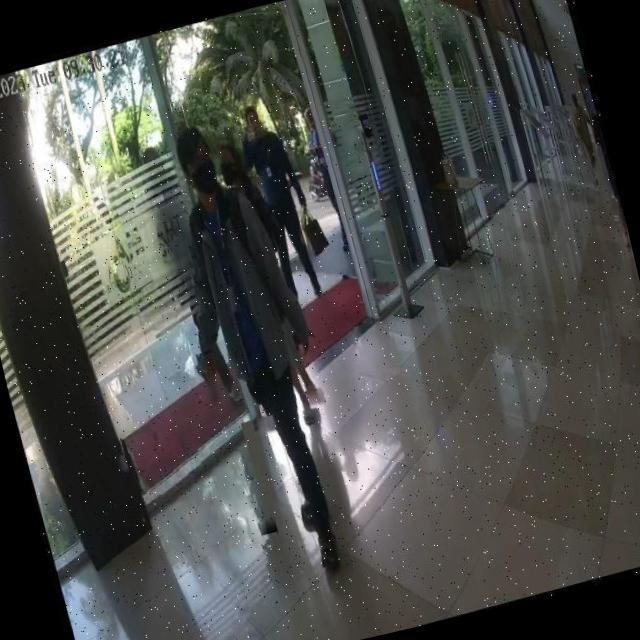person: (158, 111, 352, 590), (230, 94, 326, 312)
